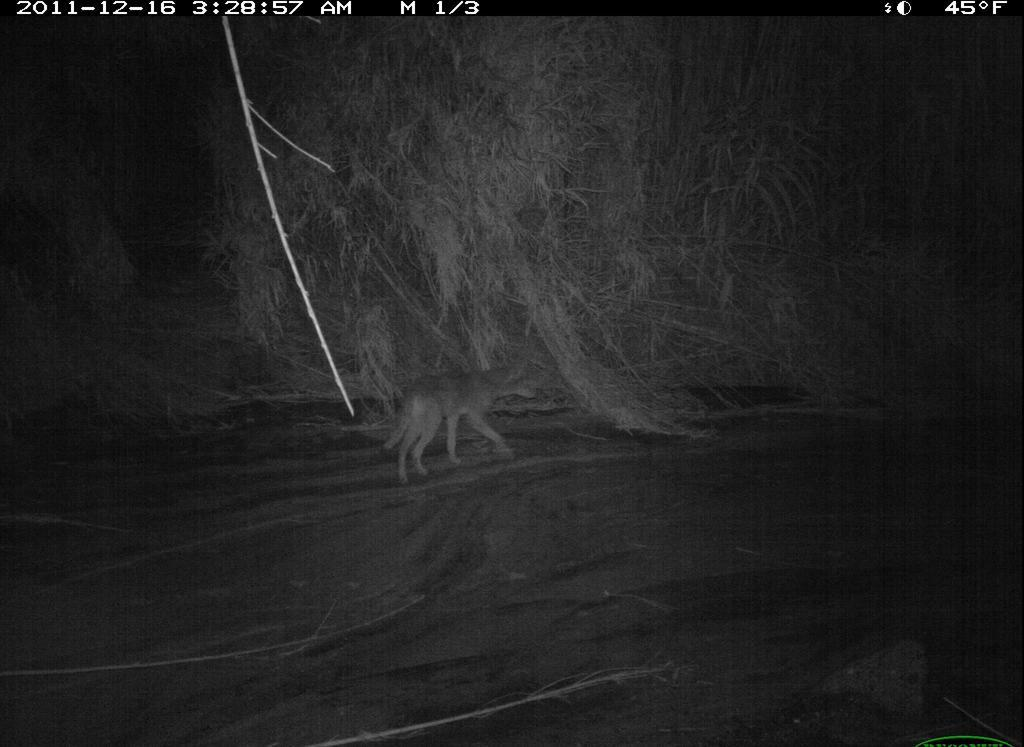coyote: (373, 363, 542, 487)
